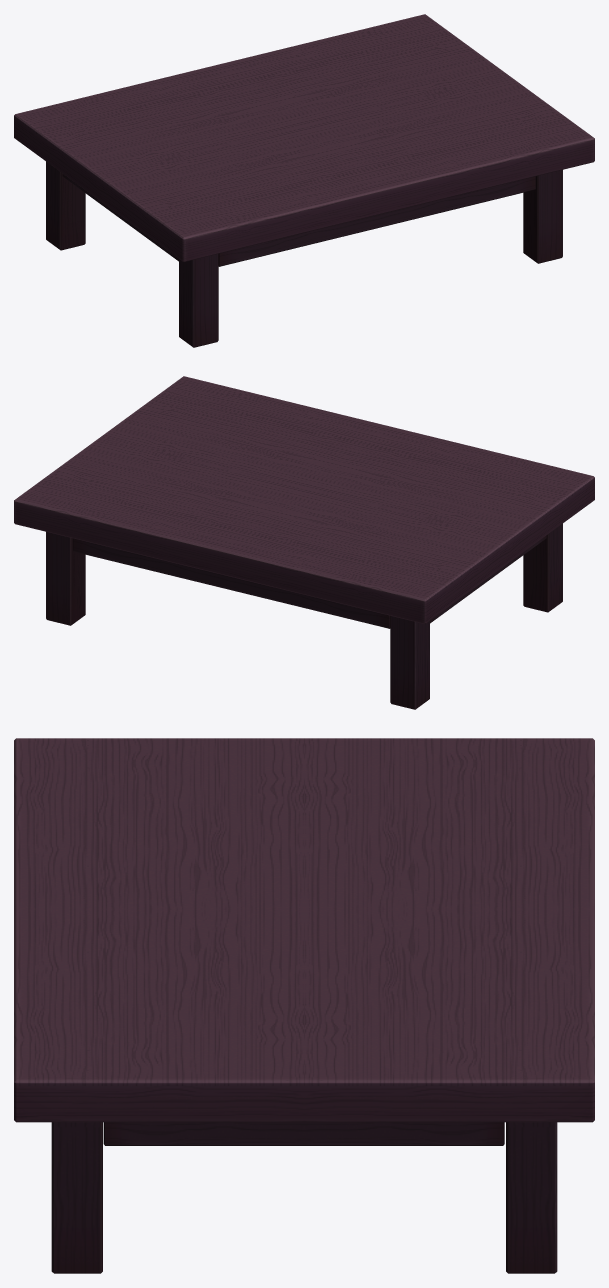
The model's file is difu_zhuozi.FBX.
3 renders of one model, top to bottom at view 1: azimuth 30°, elevation 25°; view 2: azimuth 150°, elevation 25°; view 3: azimuth 270°, elevation 25°, orthographic. The views are drawn at different scales.
Parts seen in each view (by area): view 1: difu_zhuozi; view 2: difu_zhuozi; view 3: difu_zhuozi.
Boxes of the visible parts, <box> form: difu_zhuozi: <box>14,14,594,347</box>; difu_zhuozi: <box>14,376,594,709</box>; difu_zhuozi: <box>14,738,594,1273</box>.
Size of the model in its own units: 1575 by 451 by 1125.
